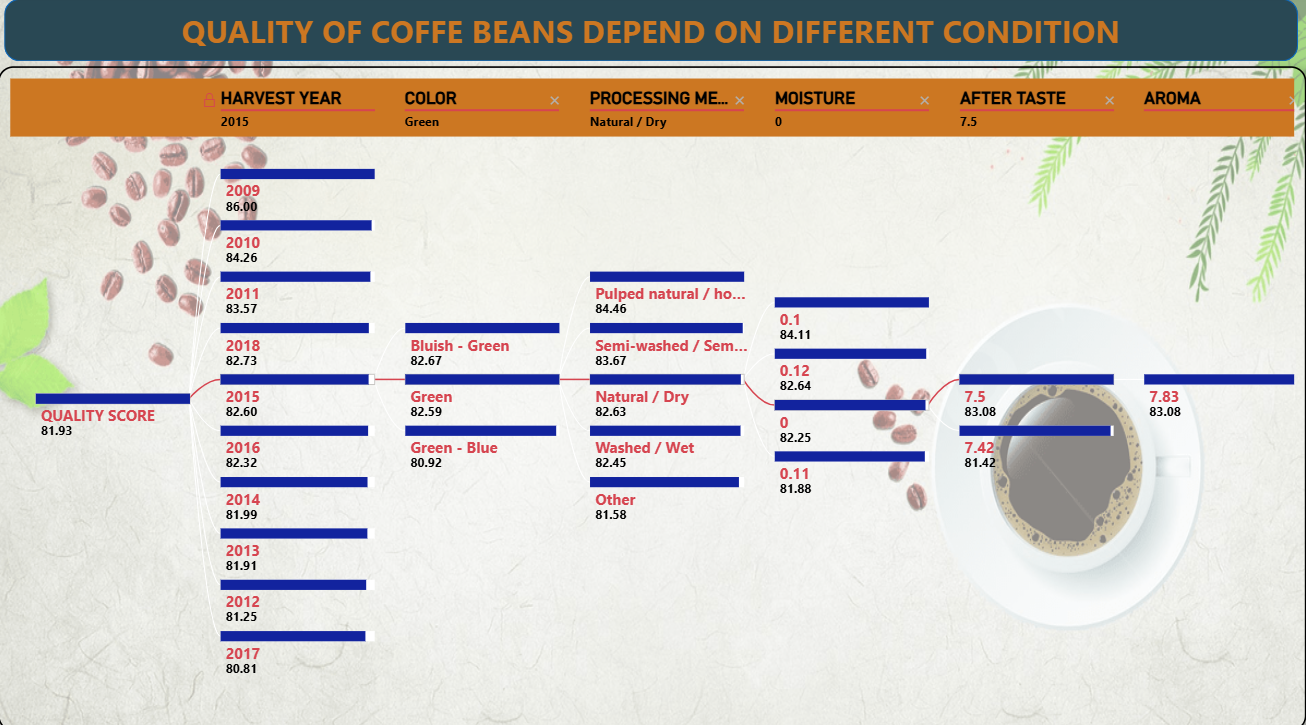

The page's visual inventory and layout, read from the dashboard file:
{"tool":"powerbi","page":{"name":"Page 2","canvas":[1280,720],"ordinal":1},"visuals":[{"type":"decompositionTreeVisual","fields":{"Analyze":["Avg(arabica_ratings_raw.quality_score)"],"ExplainBy":["arabica_ratings_raw.Harvest Year.2","arabica_ratings_raw.Color","arabica_ratings_raw.Processing Method","arabica_ratings_raw.Moisture","arabica_ratings_raw.Aftertaste","arabica_ratings_raw.Aroma"]},"box":[0,69.7,1280.3,650.5],"z":0},{"type":"shape","box":[6.1,3.7,1265.6,61.1],"z":1000}]}

Visuals, with their boxes in screenshot pixels (x1, y1, x2, y2), scaled from the page's 1280x720 canvas onto the 1306x725 screenshot:
decompositionTreeVisual - Avg(arabica_ratings_raw.quality_score) x arabica_ratings_raw.Harvest Year.2: [0, 70, 1305, 724]
shape: [6, 4, 1298, 65]
